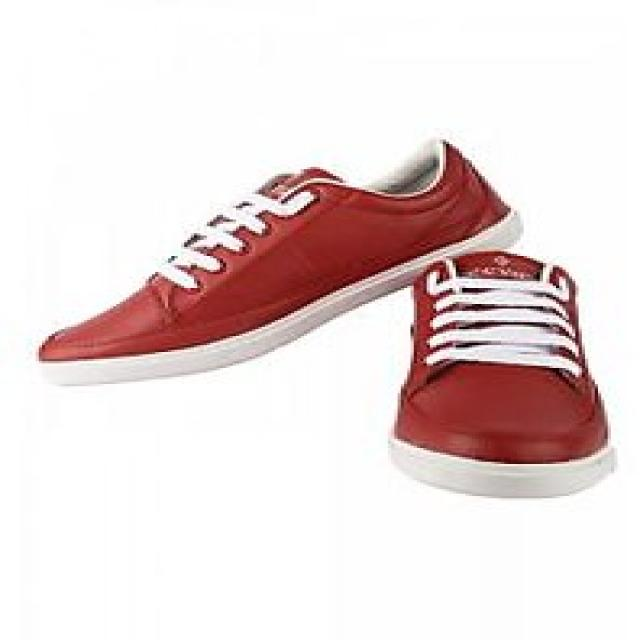shoe: (36, 134, 519, 390), (383, 248, 615, 502)
